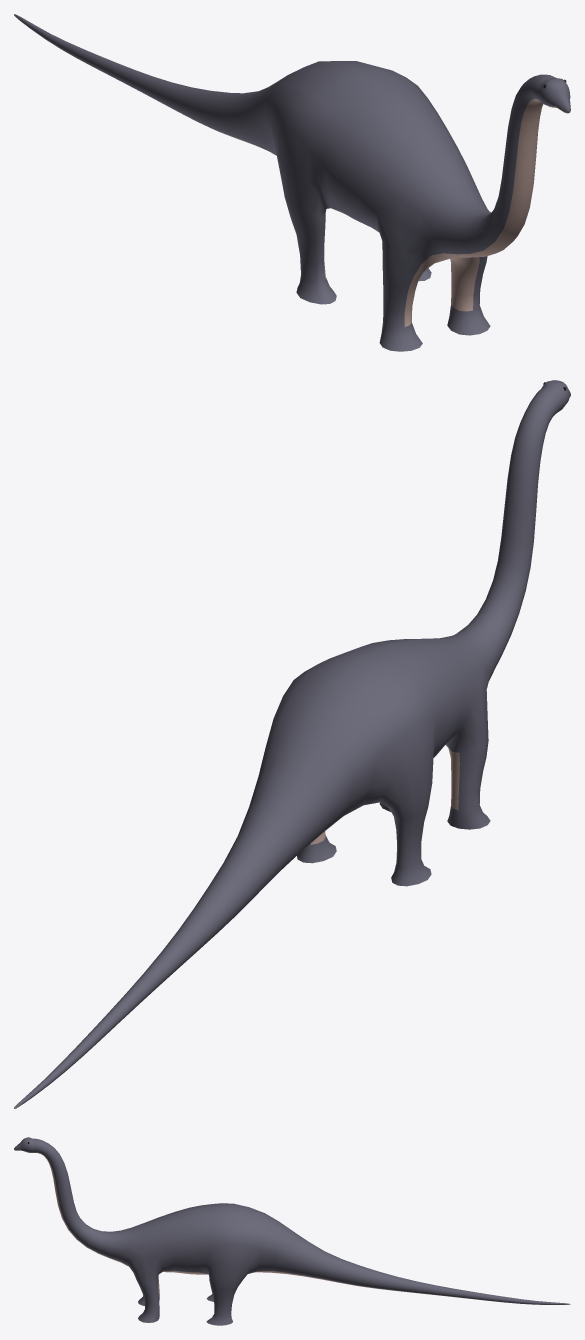
Rendered from dino.FBX.
The picture shows the model from 3 angles, top to bottom: view 1: azimuth 30°, elevation 25°; view 2: azimuth 150°, elevation 25°; view 3: azimuth 270°, elevation 25°; orthographic projection. The views are drawn at different scales.
Visible parts, largest first — view 1: Geo_Diplodocus; view 2: Geo_Diplodocus; view 3: Geo_Diplodocus.
Part boxes in pixels (x1,y1,x2,y2): Geo_Diplodocus: [14, 14, 570, 351]; Geo_Diplodocus: [14, 380, 570, 1108]; Geo_Diplodocus: [14, 1137, 570, 1325].
Size of the model in its own units: 282 by 2007 by 683.
Materials: 1 (1 with a texture image).
